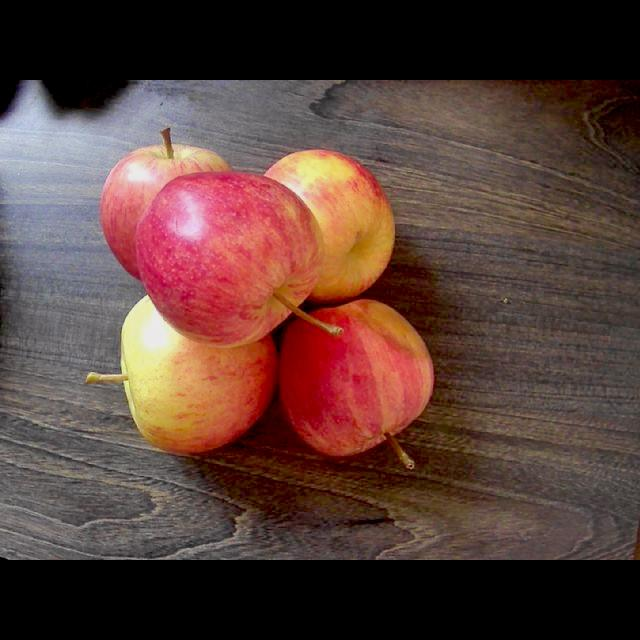manzana: (136, 171, 324, 346), (86, 296, 276, 453), (281, 300, 434, 468), (266, 149, 395, 302), (101, 128, 230, 279)
